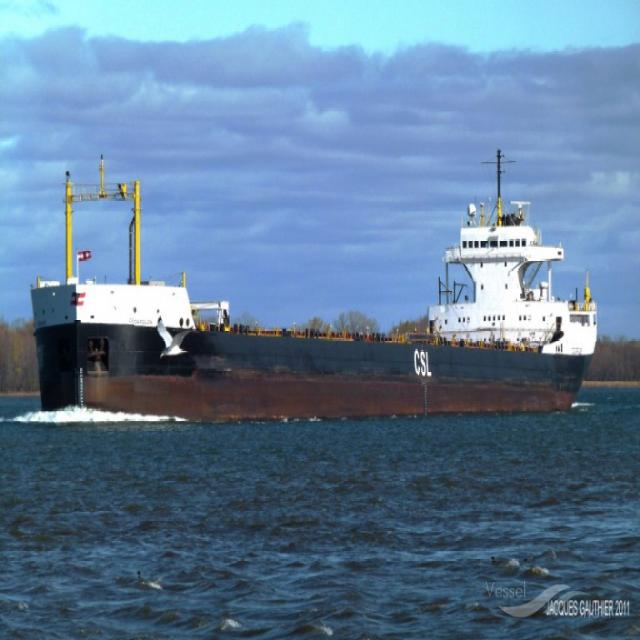OCR: (410, 345, 438, 385), (122, 310, 156, 328)
